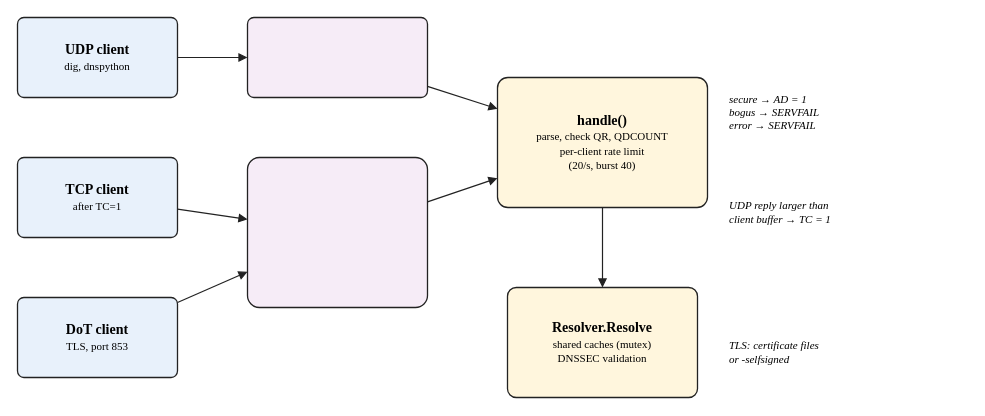
The diagram is 985 pixels wide and 416 high, and some of its shapes have lost their labels. The centre of each missing label's shape, as x and y in pixels:
ServeStream TCP and TLS listeners 2-byte length framing 10 s idle timeout: the point at 337,232
ServeUDP drop if 256 in flight: the point at 337,57
